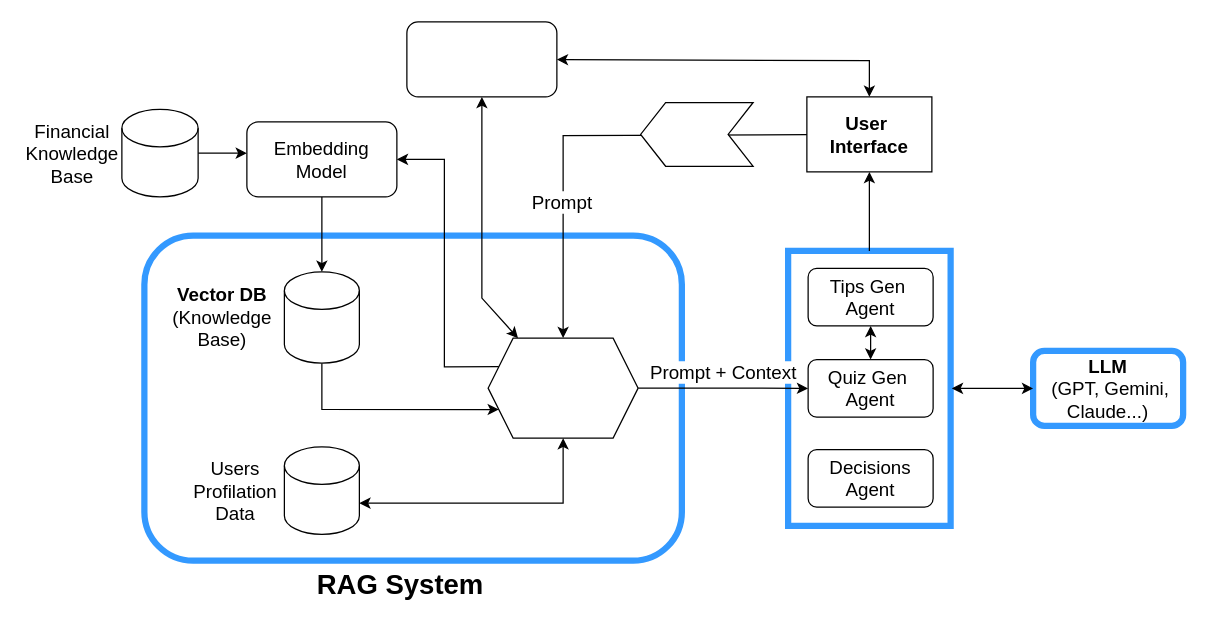
Some shapes in this 1208 by 633 pixel diagram are drawn without their labels. Each missing label, with the box of its shape:
Generate Prompt: (639, 101, 753, 166)
Quality Evaluation Subsystem: (406, 21, 557, 97)
Retrieval Model: (487, 337, 638, 438)
